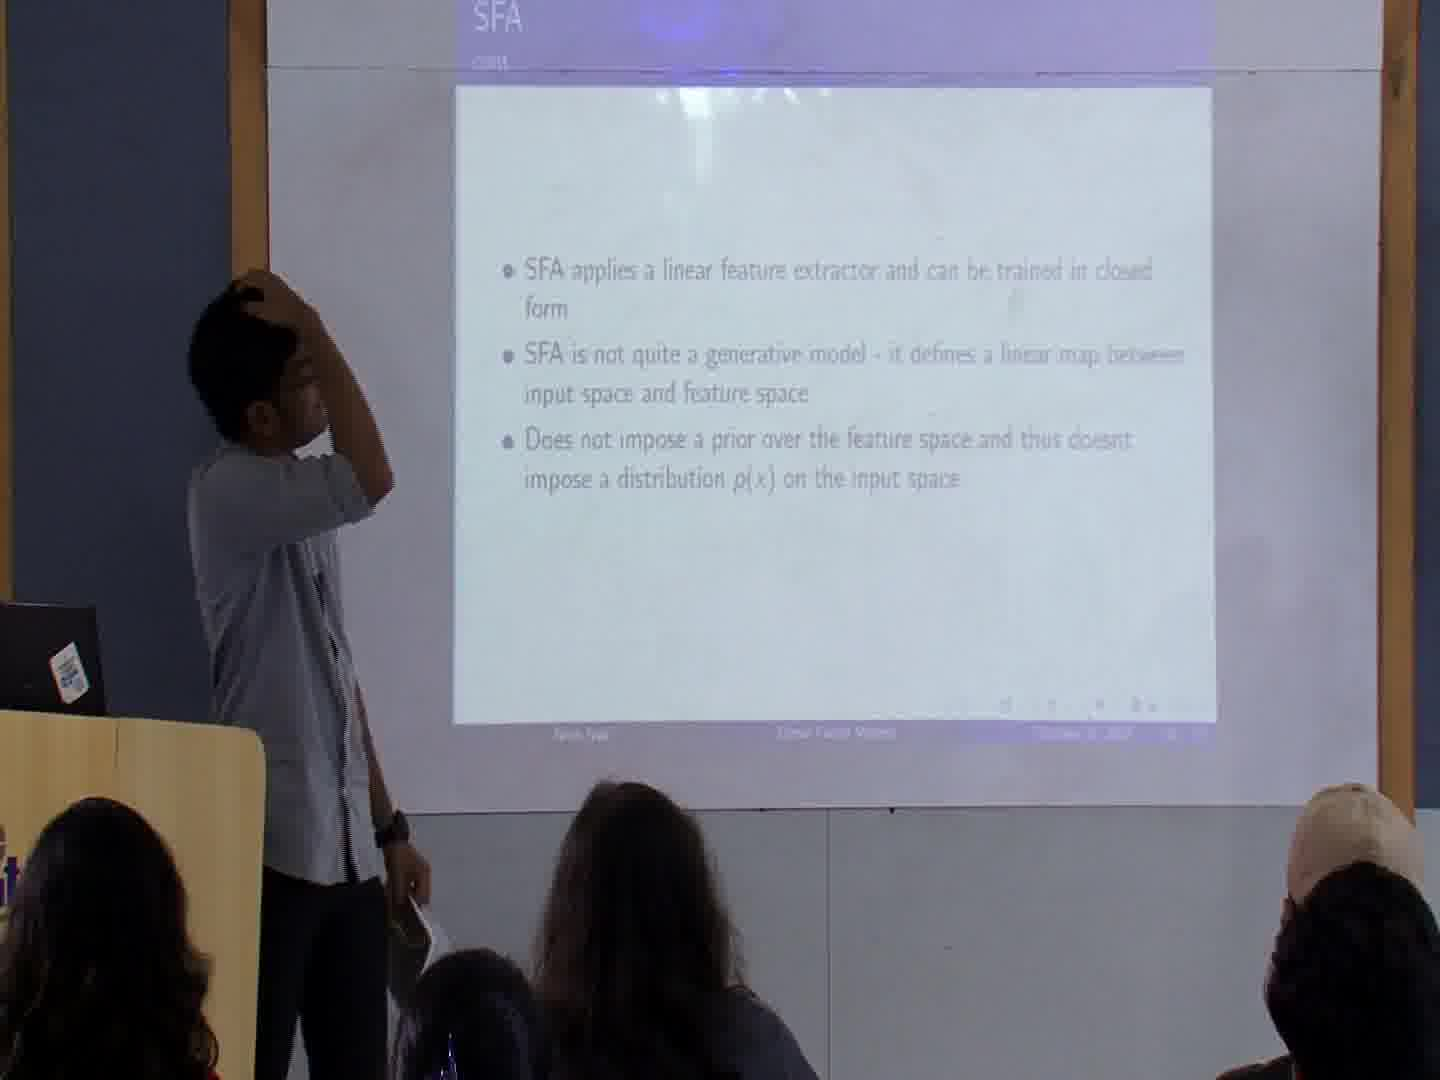slide: (456, 2, 1215, 744)
